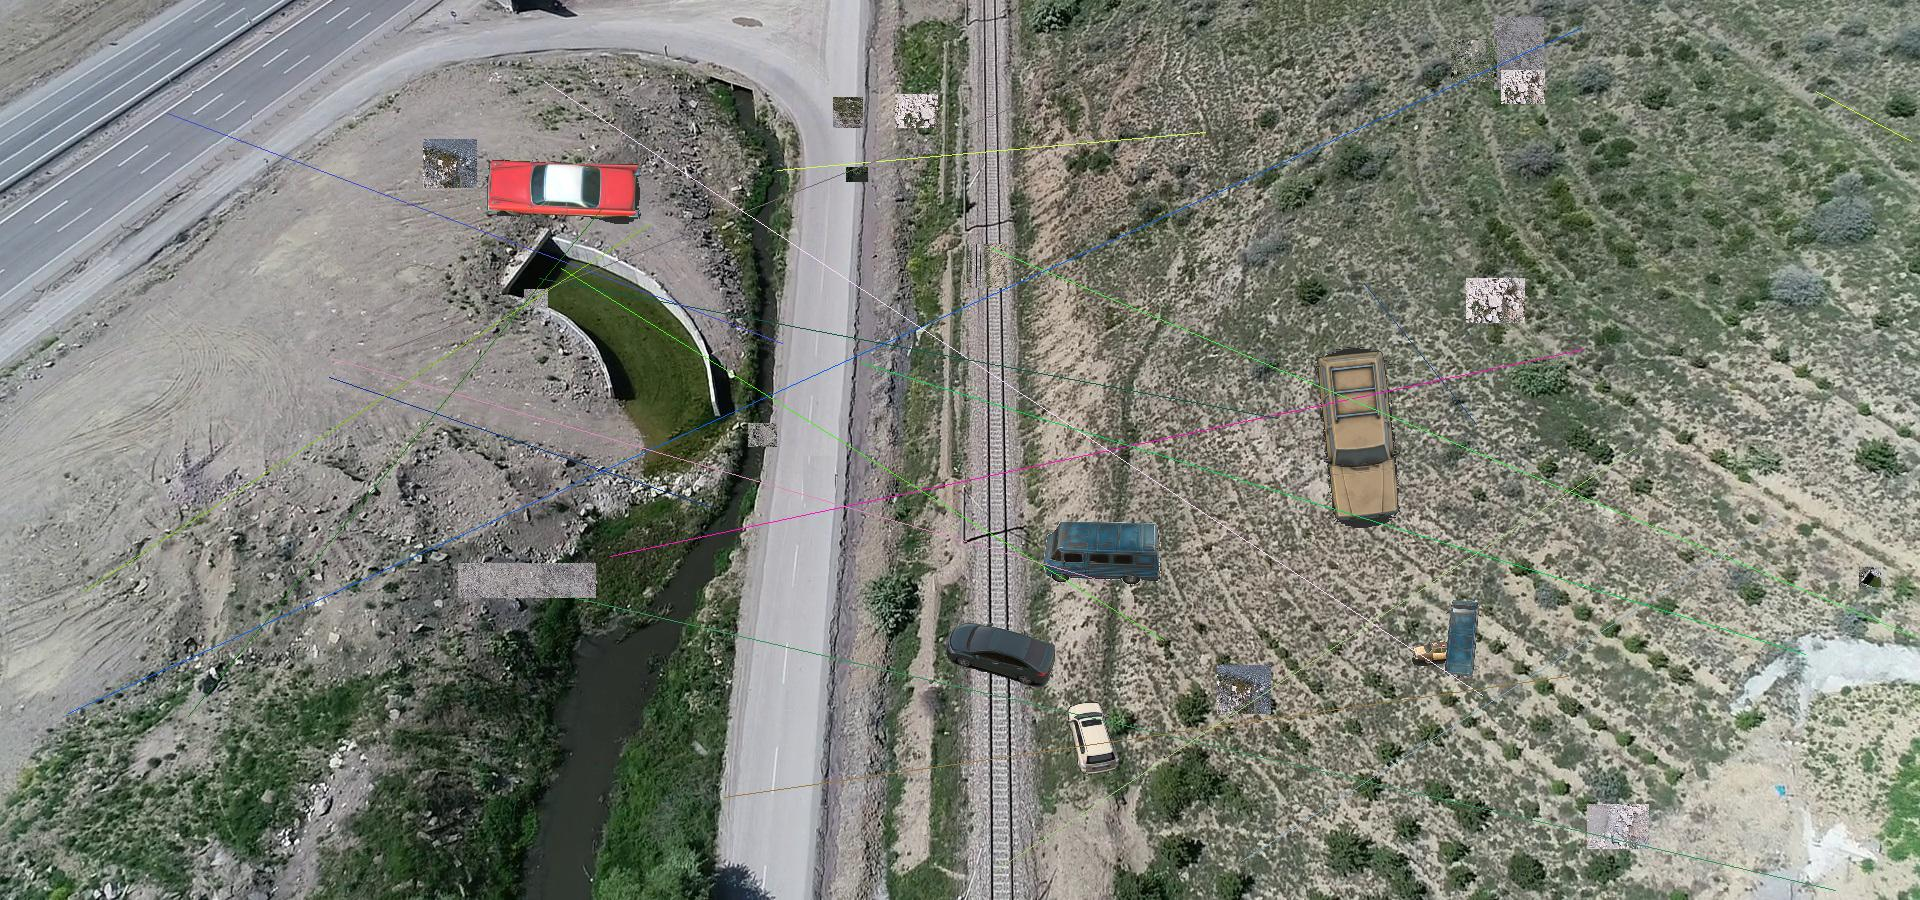arac: (1310, 347, 1404, 528), (486, 158, 647, 225), (945, 621, 1060, 688), (1044, 522, 1161, 587), (1063, 702, 1120, 775), (1442, 599, 1480, 678), (1411, 639, 1471, 666)
